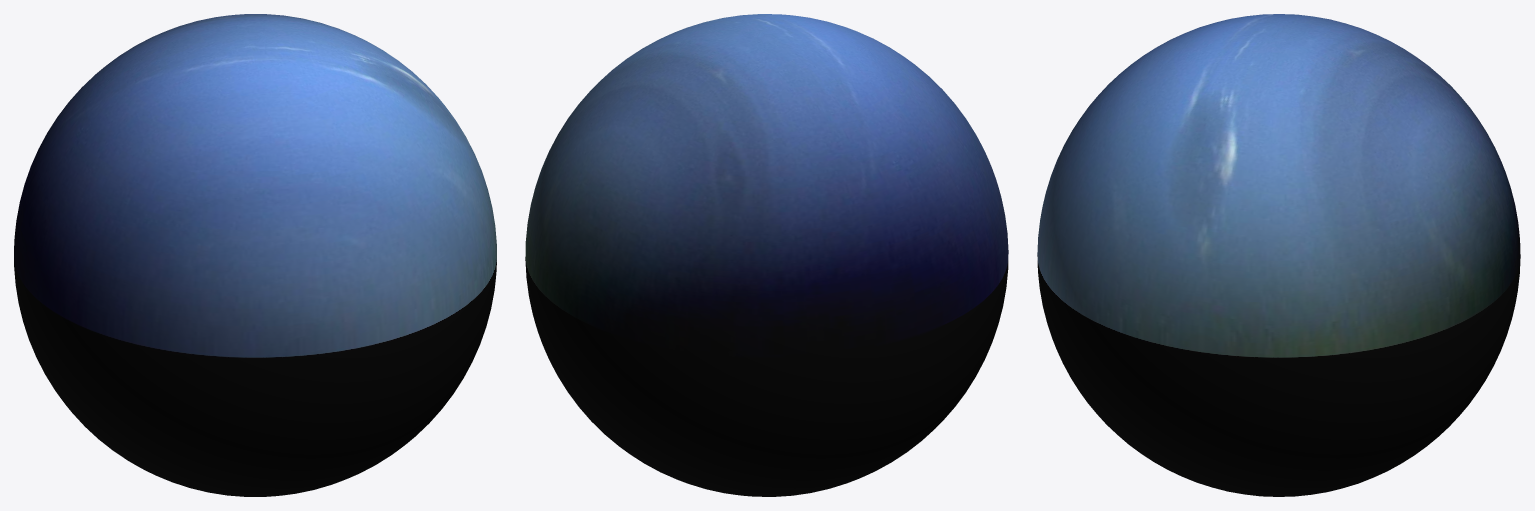
The picture shows the model from 3 angles, left to right: view 1: azimuth 30°, elevation 25°; view 2: azimuth 150°, elevation 25°; view 3: azimuth 270°, elevation 25°; orthographic projection.
Parts seen in each view (by area): view 1: Tierra.002; view 2: Tierra.002; view 3: Tierra.002.
Part boxes in pixels (x1=…): Tierra.002: x1=14, y1=14, x2=496, y2=496; Tierra.002: x1=525, y1=14, x2=1008, y2=496; Tierra.002: x1=1037, y1=14, x2=1520, y2=496.
Bounding box in the file's own units: 18 × 18 × 18.
1 material, 1 textured.
